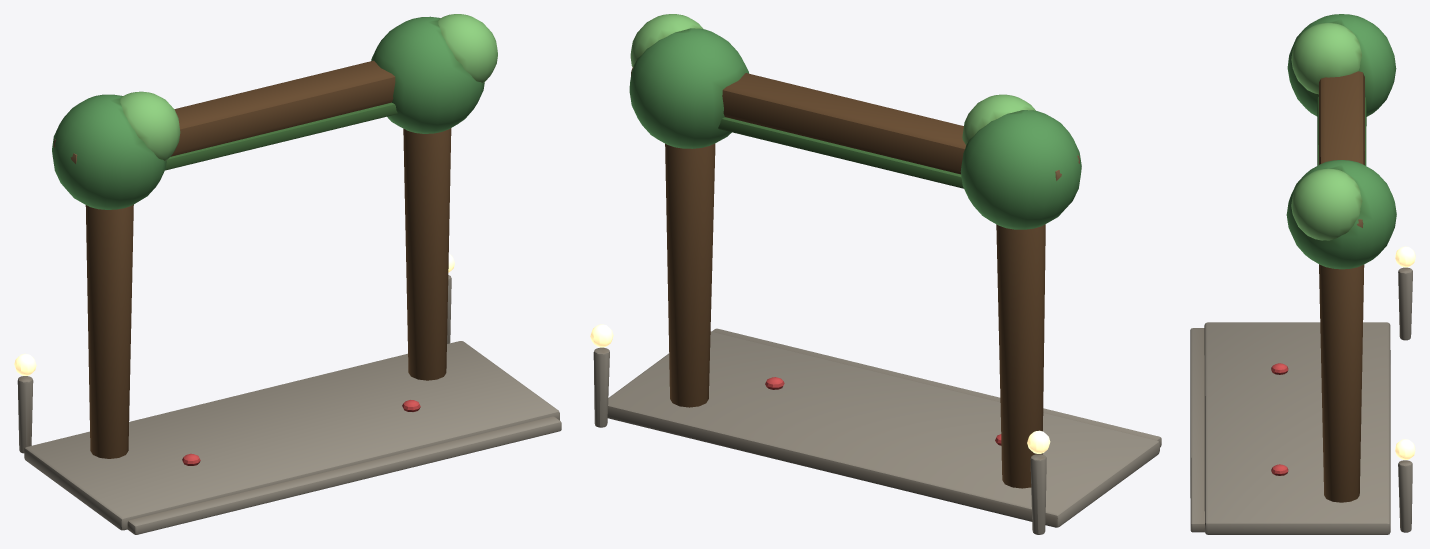
3 renders of one model, left to right at view 1: azimuth 30°, elevation 25°; view 2: azimuth 150°, elevation 25°; view 3: azimuth 270°, elevation 25°, orthographic. The views are drawn at different scales.
Parts seen in each view (by area): view 1: gate_0826da64; view 2: gate_0826da64; view 3: gate_0826da64.
Boxes of the visible parts, x1,y1,x2,y2 form: gate_0826da64: (14,14,561,534); gate_0826da64: (590,14,1161,534); gate_0826da64: (1190,14,1415,534).
Size of the model in its own units: 5.41 by 4.33 by 2.55.
